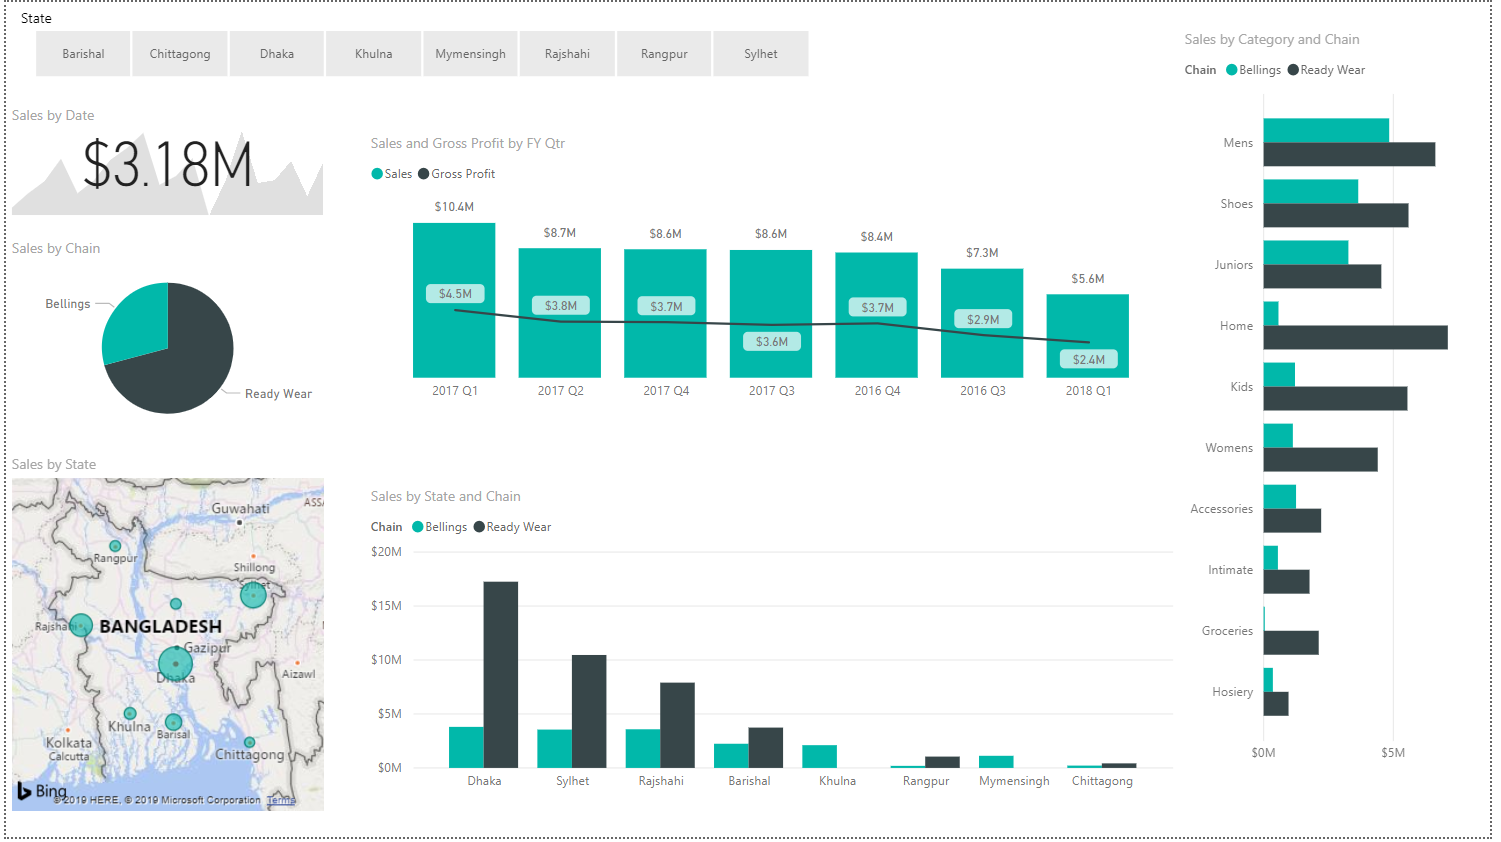

The dashboard page shown, as its layout file describes it:
{"tool":"powerbi","page":{"name":"Summery","canvas":[1280,720],"ordinal":0},"visuals":[{"type":"kpi","fields":{"Indicator":["Sum(Sales.Sales)"],"TrendLine":["Dates.Date"]},"box":[0,88.8,279.4,100],"z":0},{"type":"clusteredColumnChart","fields":{"Y":["Sum(Sales.Sales)"],"Category":["Regions.State"],"Series":["Sales.Chain"]},"box":[309.6,414.8,701.9,239.7],"z":1000},{"type":"lineStackedColumnComboChart","fields":{"Category":["Dates.FY Qtr"],"Y":["Sum(Sales.Sales)"],"Y2":["Sum(Sales.Gross Profit)"]},"box":[309.6,120.7,701.9,239.7],"z":2000},{"type":"pieChart","fields":{"Y":["Sum(Sales.Sales)"],"Category":["Sales.Chain"]},"box":[0,203.5,278.5,174.2],"z":3000},{"type":"map","fields":{"Size":["Sum(Sales.Sales)"],"Category":["Regions.State"]},"box":[0,389.7,279.4,313],"z":4000},{"type":"clusteredBarChart","fields":{"Category":["Sales.Category"],"Series":["Sales.Chain"],"Y":["Sum(Sales.Sales)"]},"box":[1011.4,25.9,268.2,483.7],"z":5000},{"type":"slicer","fields":{"Values":["Regions.State"]},"box":[0,0,715.7,70.7],"z":6000}]}

Visuals, with their boxes in screenshot pixels (x1, y1, x2, y2), scaled from the page's 1280x720 canvas onto the 1501x842 screenshot:
kpi - Sum(Sales.Sales) x Dates.Date: 0:104:328:221
clusteredColumnChart - Sum(Sales.Sales) x Regions.State: 363:485:1186:765
lineStackedColumnComboChart - Dates.FY Qtr x Sum(Sales.Sales): 363:141:1186:421
pieChart - Sum(Sales.Sales) x Sales.Chain: 0:238:327:442
map - Sum(Sales.Sales) x Regions.State: 0:456:328:822
clusteredBarChart - Sales.Category x Sales.Chain: 1186:30:1500:596
slicer - Regions.State: 0:0:839:83
